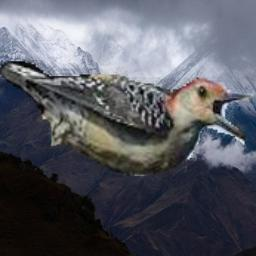Woodpecker: (0, 60, 256, 176)
